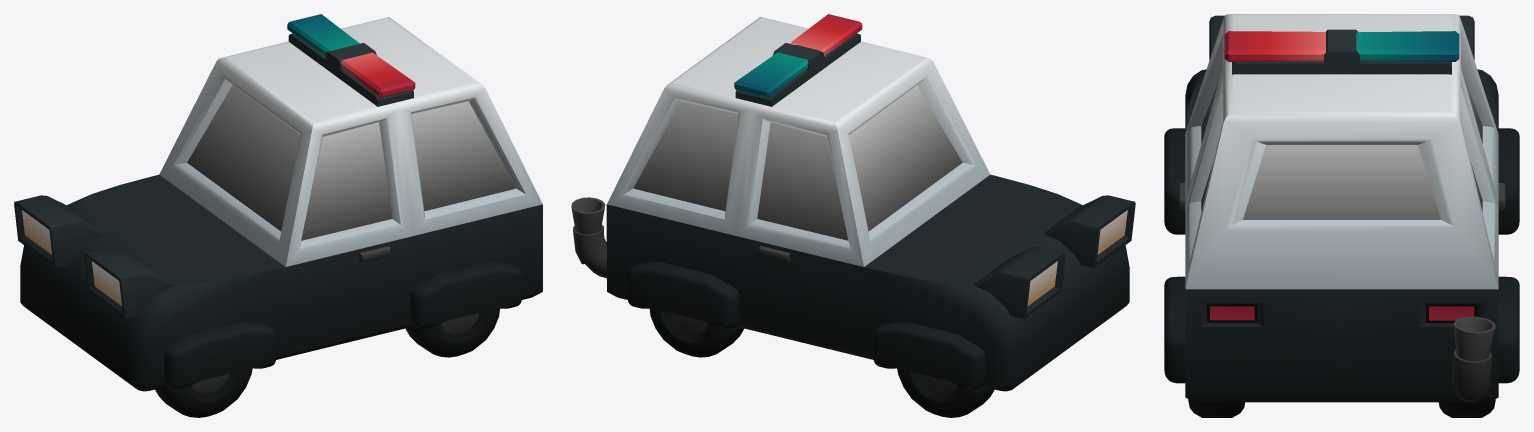
File: Police Car.glb
3 views of the same model, side by side, from view 1: azimuth 30°, elevation 25°; view 2: azimuth 150°, elevation 25°; view 3: azimuth 270°, elevation 25° (orthographic). The views are drawn at different scales.
Visible parts, largest first — view 1: Car, FrontLeftWheel, BackWheels; view 2: Car, FrontRightWheel, BackWheels; view 3: Car, BackWheels.
Boxes of the visible parts, left/top/right/bottom form: Car: left=14, top=14, right=542, bottom=391; FrontLeftWheel: left=155, top=368, right=252, bottom=417; BackWheels: left=405, top=308, right=499, bottom=357; Car: left=571, top=14, right=1135, bottom=391; FrontRightWheel: left=897, top=368, right=994, bottom=417; BackWheels: left=649, top=308, right=743, bottom=357; Car: left=1164, top=14, right=1519, bottom=402; BackWheels: left=1188, top=399, right=1495, bottom=417.
Size of the model in its own units: 1.32 by 0.7746 by 0.7225.
1 material, 1 textured.
